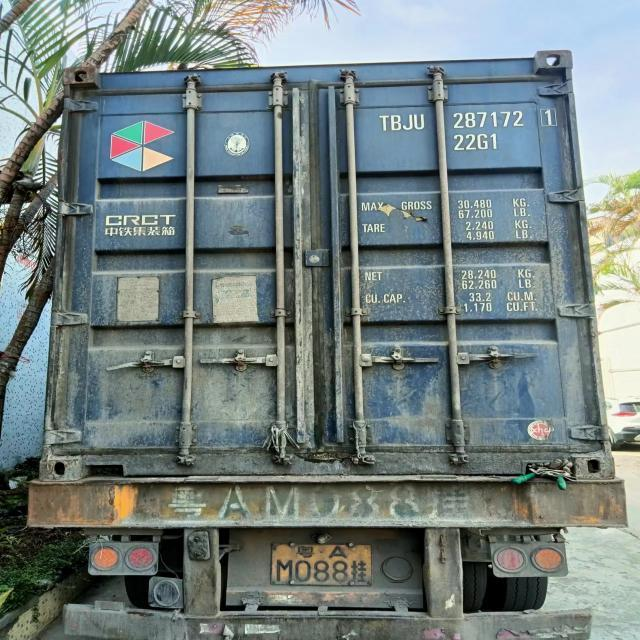ISO: (456, 132, 498, 152)
container_number: (375, 107, 559, 130)
